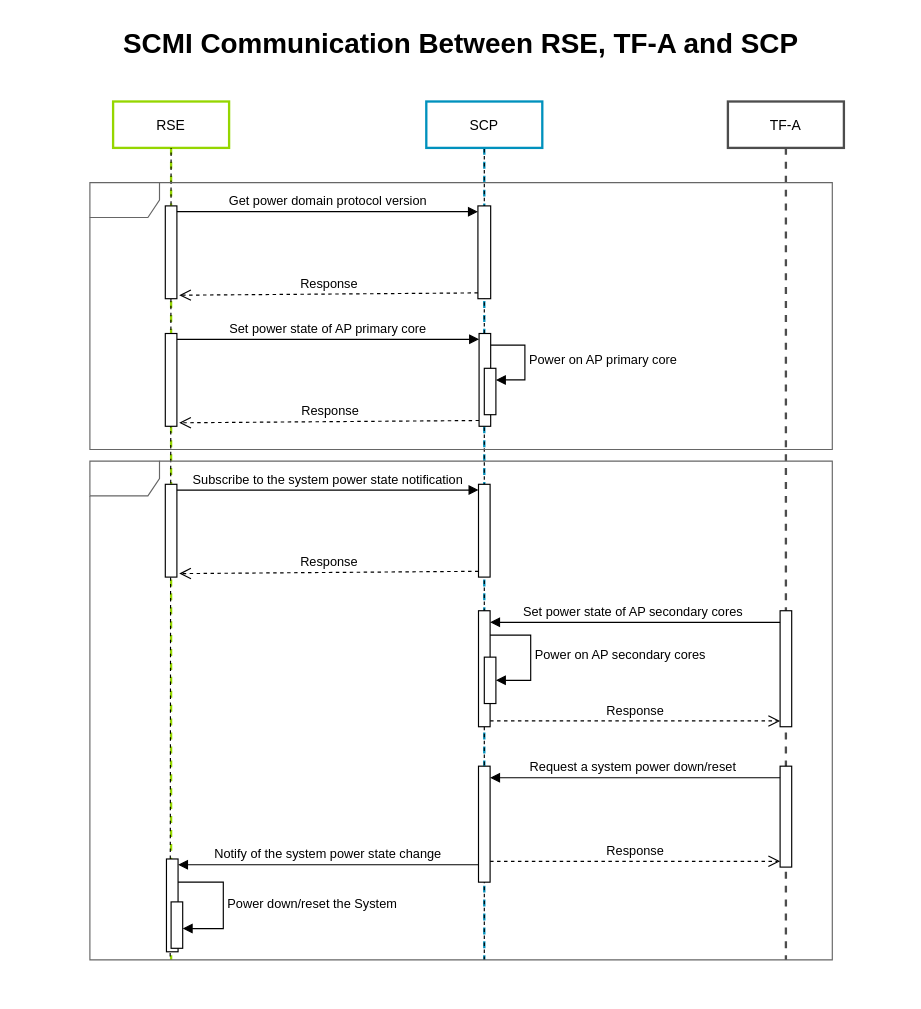
This 921x1009 diagram has some shape labels left out. Here are the shapes that lost their labels. From the top down, the centre of each, then its label:
At point 460,315: "Boot time".
At point 460,710: "Run time".
